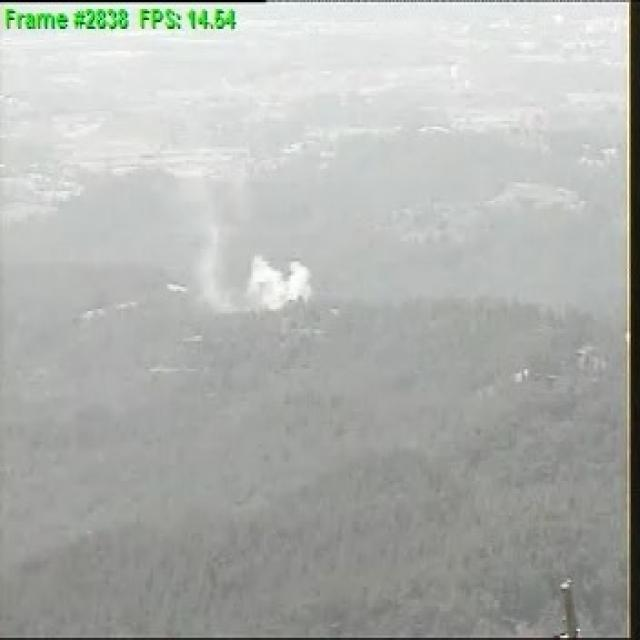smoke: (202, 236, 314, 308)
